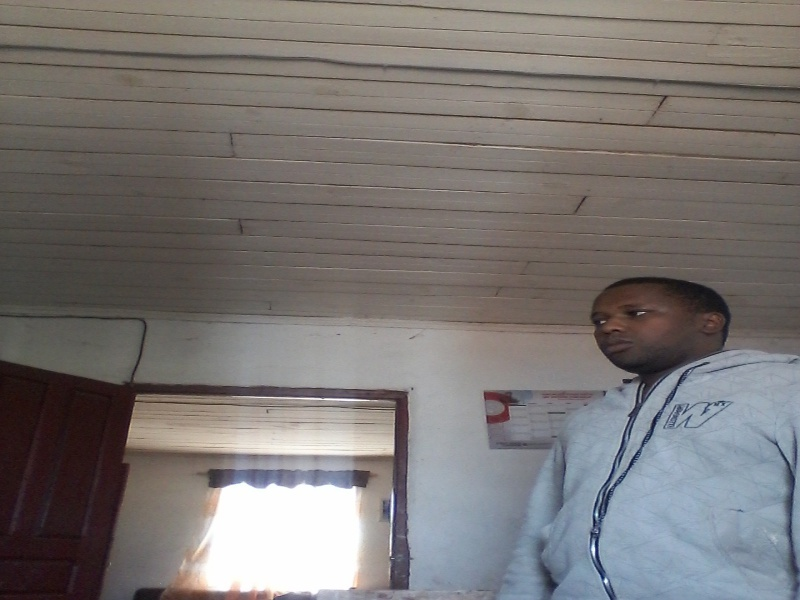TsisyArotava: (584, 270, 699, 374)
